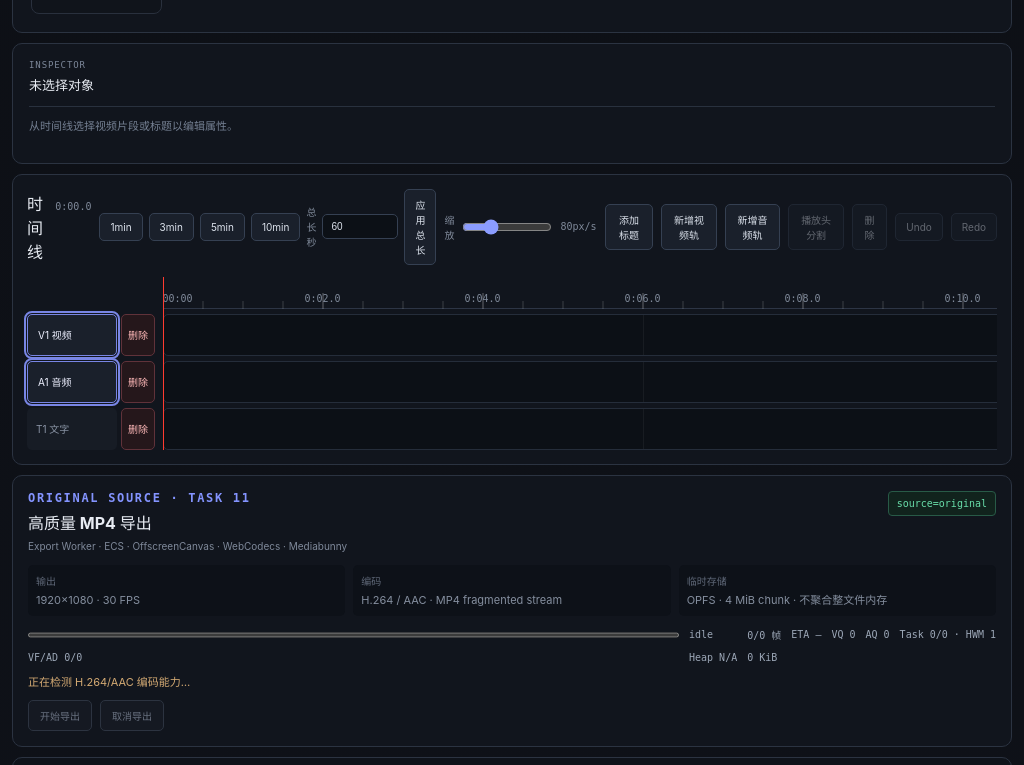
Test case: editor interactions › shows a command bus failure when deleting the last track of a kind
(page scrolled)
Click the button with aria-label "删除轨道 A1 音频".
click(138, 382)  # box [121,360,155,402]
(page scrolled)
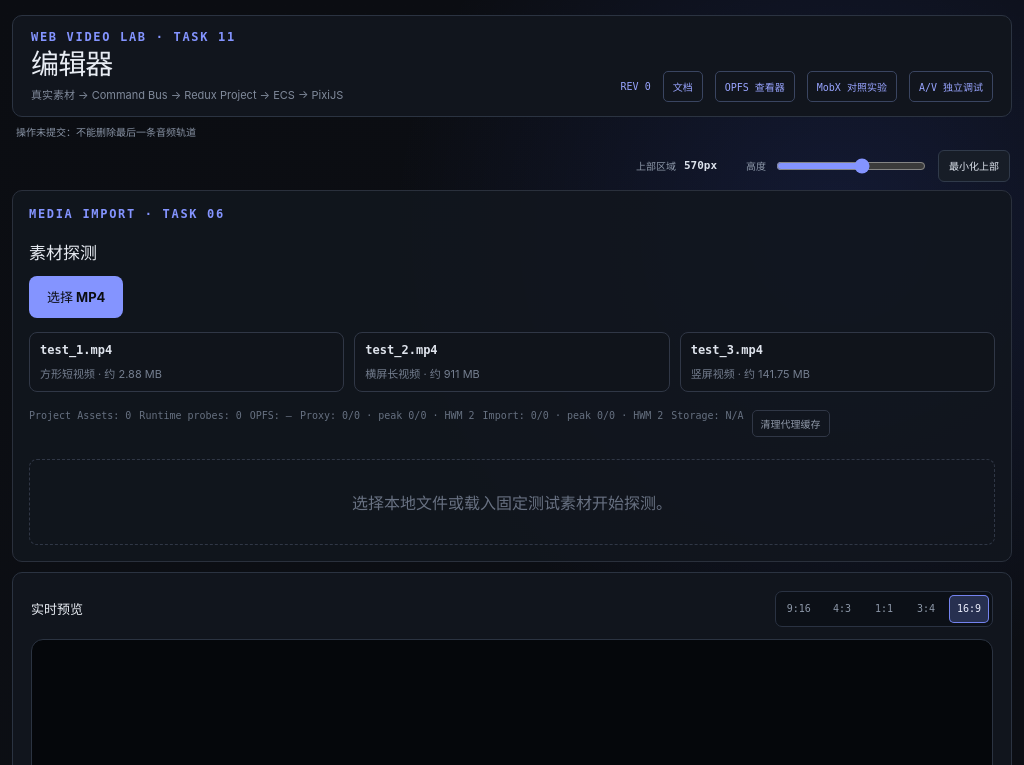
Expected: the text "操作未提交：不能删除最后一条音频轨道" is shown, [16,126,196,138]
